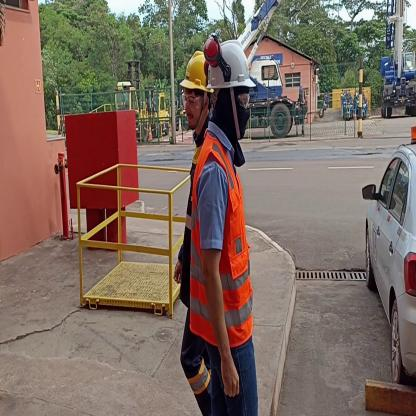Balaclava: (213, 85, 251, 146)
Capacete: (207, 38, 258, 86), (180, 47, 204, 94)
colete: (186, 134, 257, 345)
